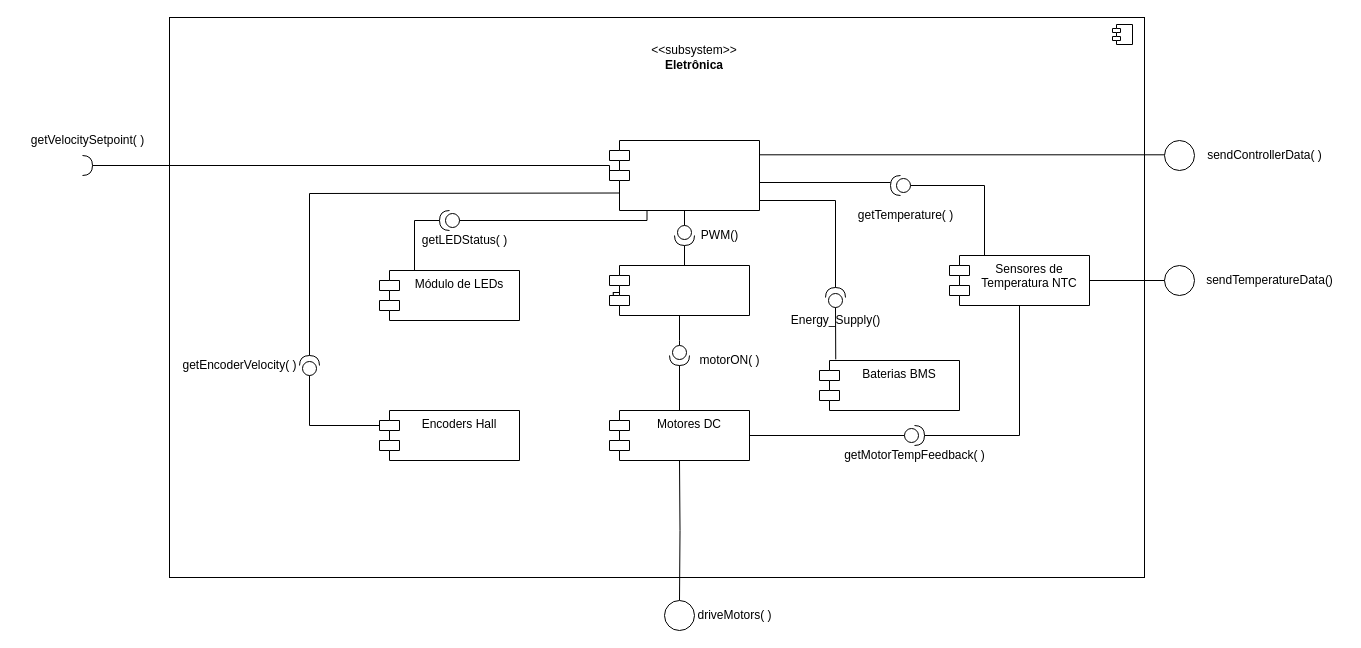
This 1361x648 diagram has some shape labels left out. Here are the shapes that lost their labels. From the top down, the box of each, then its label:
(608, 140, 760, 210): Controlador Motor RP 2040
(608, 264, 750, 316): Drivers BTS7960
